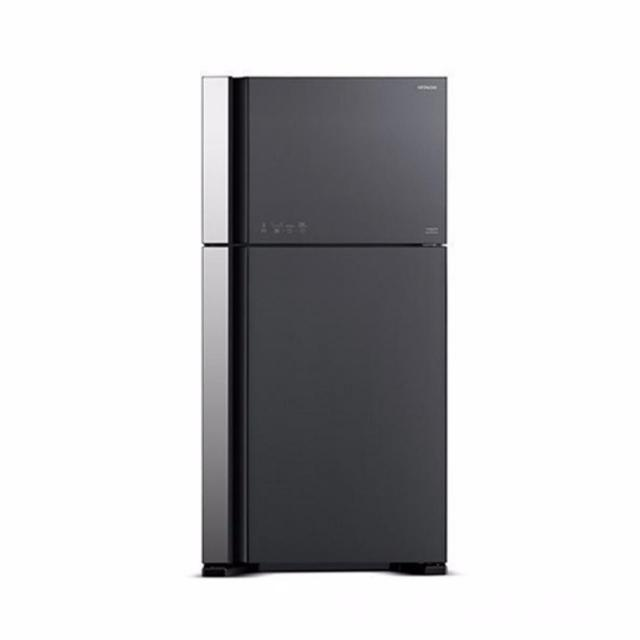refrigerator: (198, 72, 449, 577)
